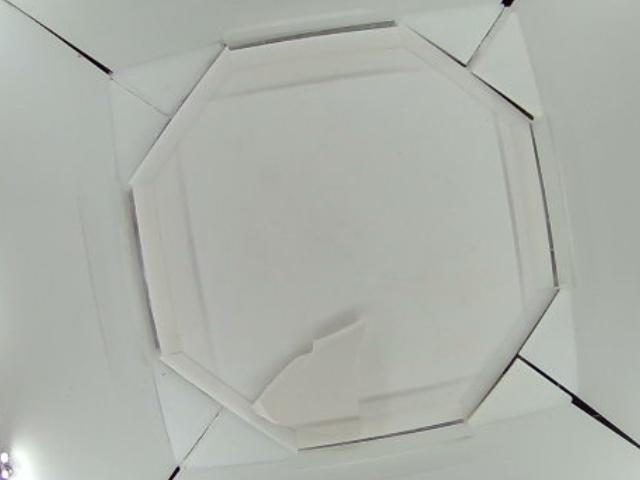China: (255, 319, 379, 439)
